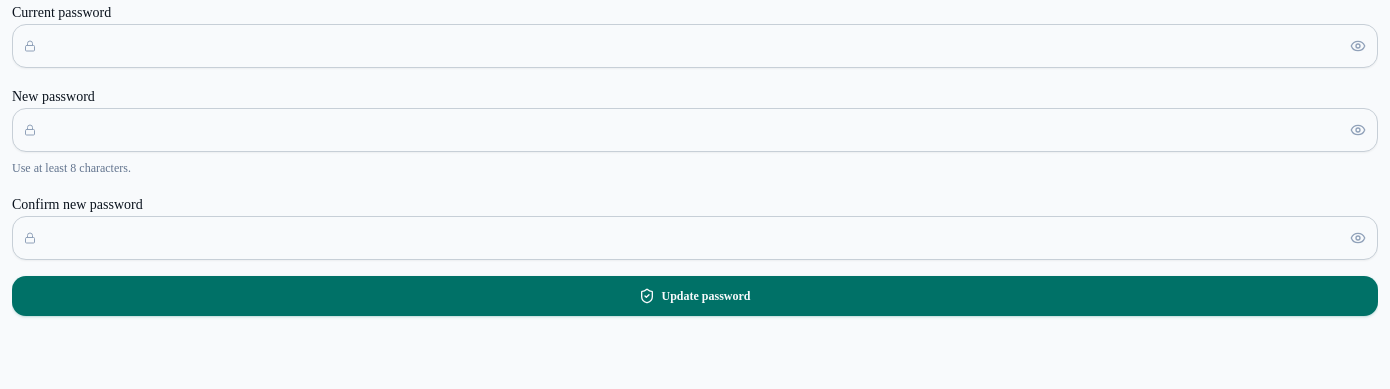
Test: ChangePasswordForm › requires matching passwords of at least 8 characters before submitting
Step 1. Type "old-password-123" into the password field labelled "Current password" → (695, 46), box [12,24,1378,68]
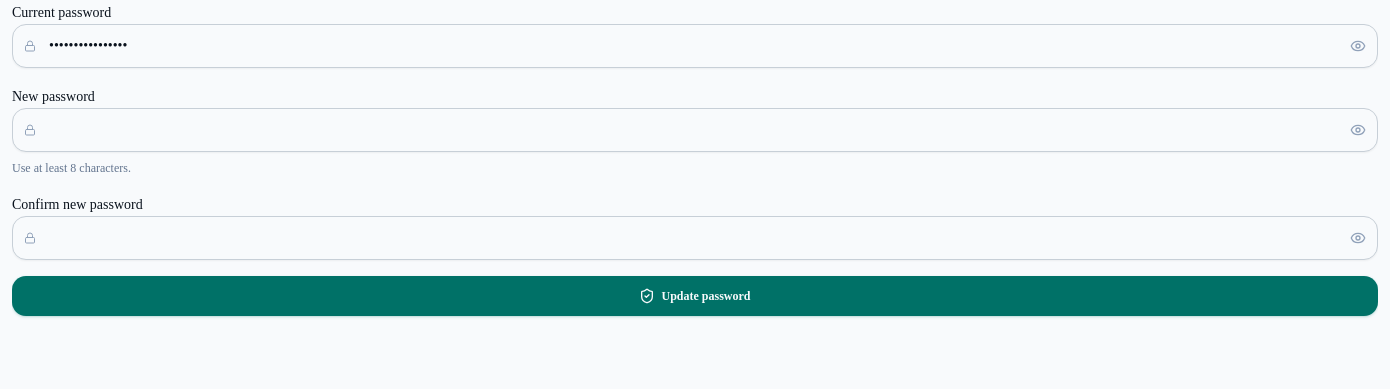
Step 2. Type "new-pass-456" into the password field labelled "New password" → (695, 130), box [12,108,1378,152]
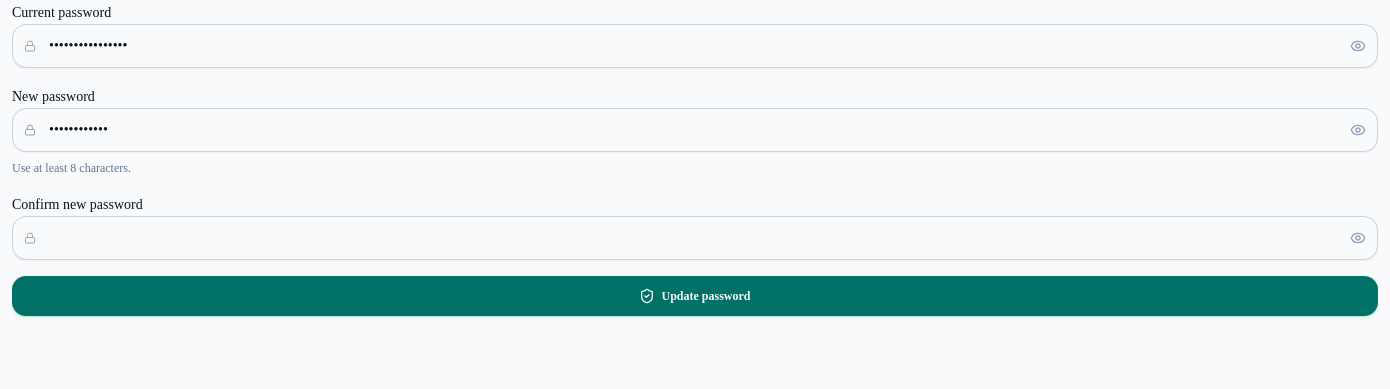
Step 3. Type "different-789" into the password field labelled "Confirm new password" → (695, 238), box [12,216,1378,260]
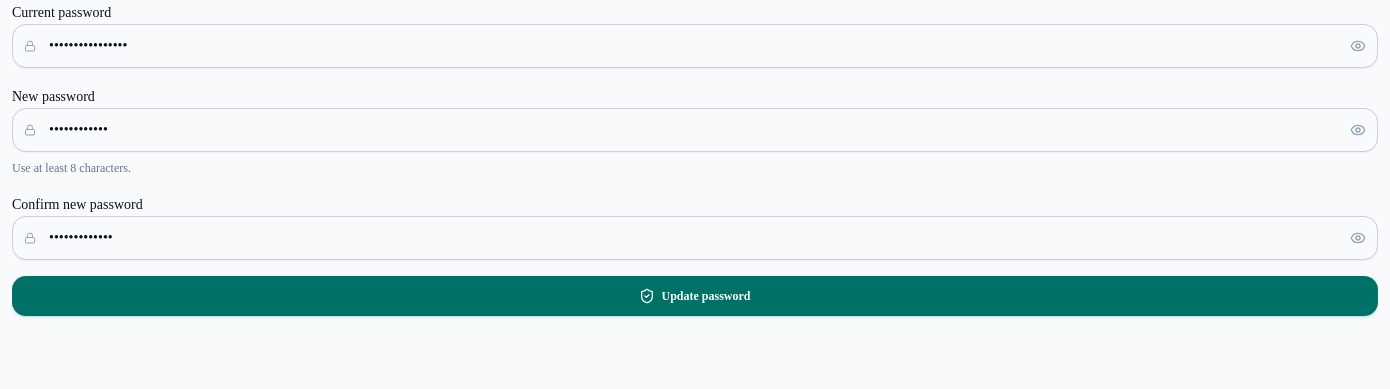
Step 4. Click the button "Update password" → (695, 296), box [12,276,1378,316]
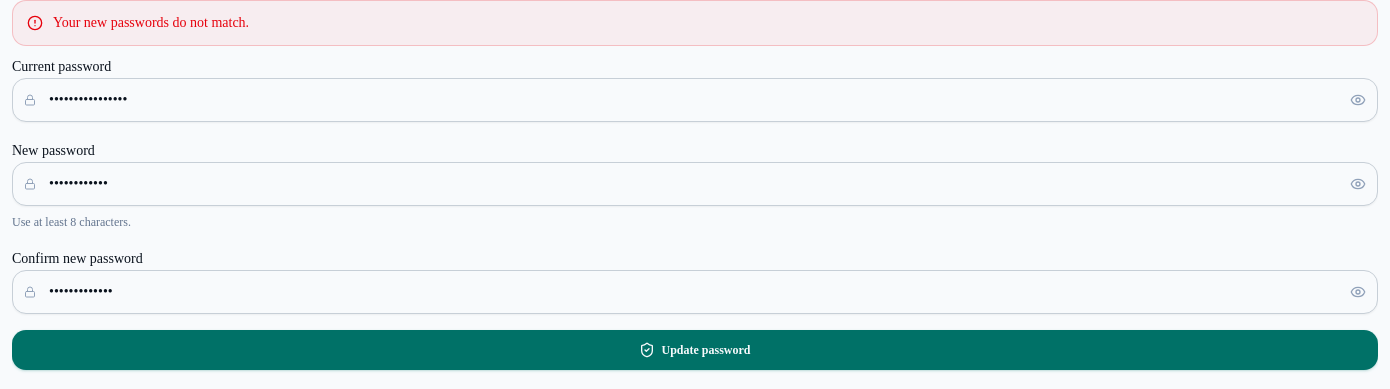
Check: the text "Your new passwords do not match." is shown, box [53,13,249,33]
